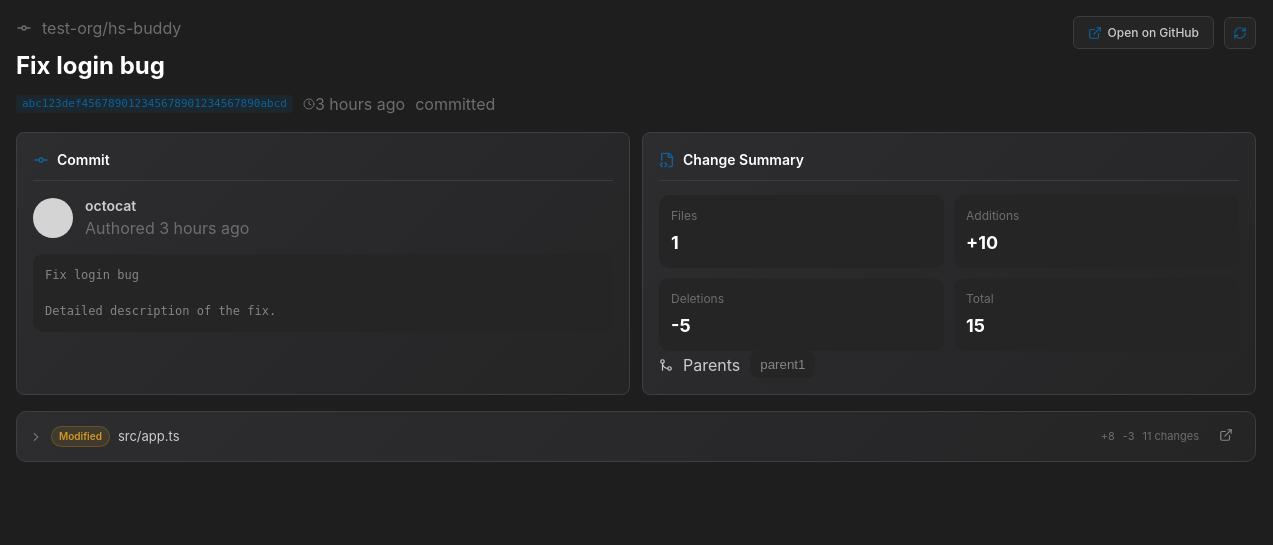
RepoCommitDetailPanel › collapses an expanded file on second click
This screenshot has width=1273, height=545.
Expected: the text "src/app.ts" is shown, [118,427,180,446]
Click the button "modified src/app.ts +8 -3 11 changes".
click(80, 436)  # box [29,426,1199,447]
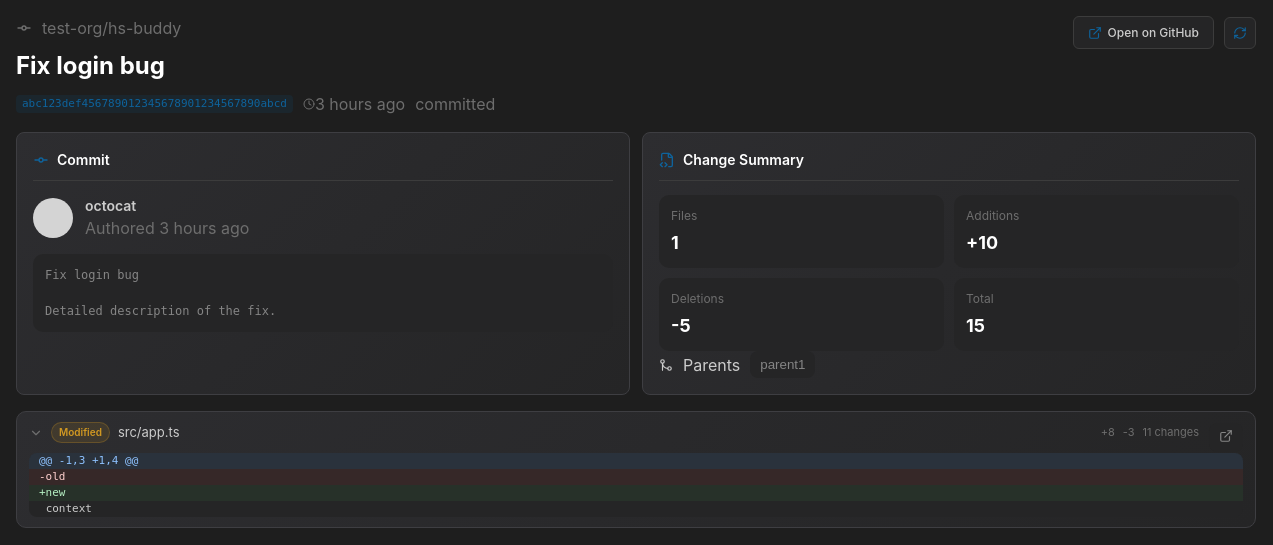
Now the text "-old" is shown, box [29,469,1243,485]
Click the button "modified src/app.ts +8 -3 11 changes".
click(80, 432)  # box [29,422,1199,453]
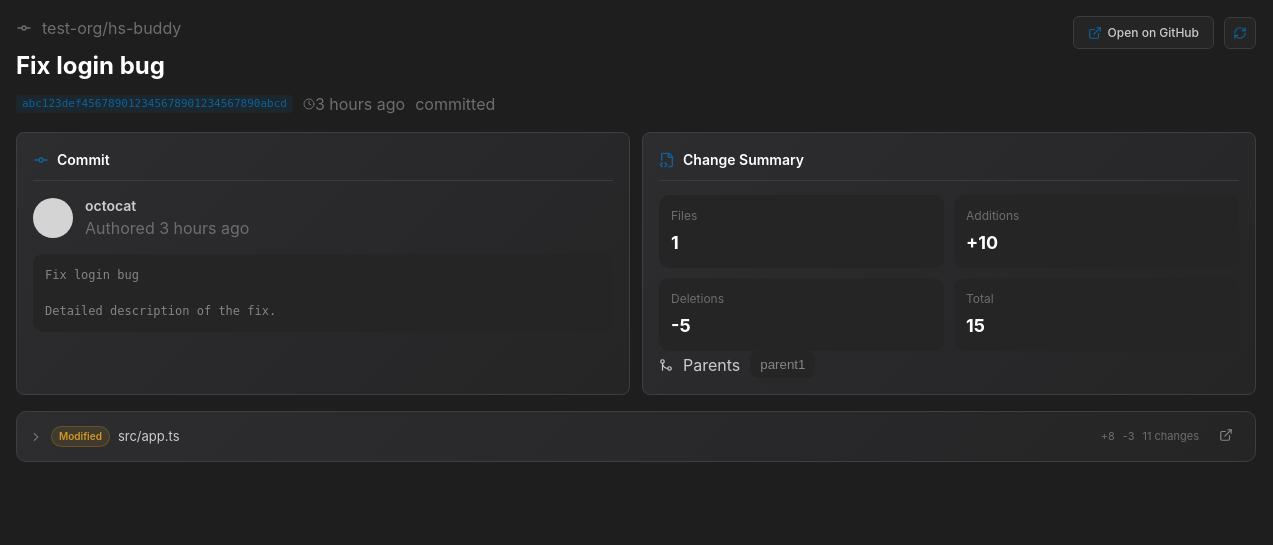
Now the text "-old" is gone
